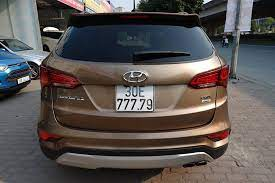Car number plates: (115, 84, 154, 113)
